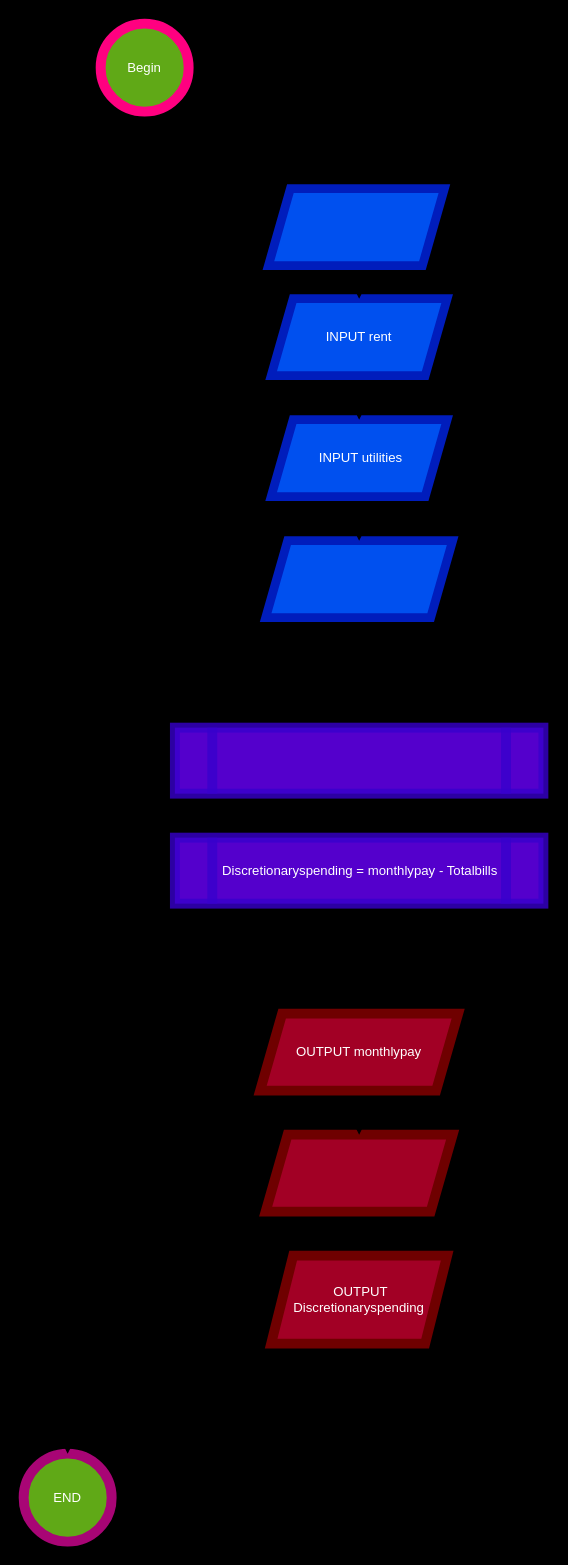
Image size: 568x1565. Some labels were removed from this diagram. The shapes that lost their labels are listed below. From the top down, each one's centre as x and y in pixels, then its label:
point (355, 227): INPUT monthlypay
point (359, 579): INPUT grocery
point (358, 760): Totalbills = rent + utlilities + grocery
point (358, 1172): OUTPUT totalbills
